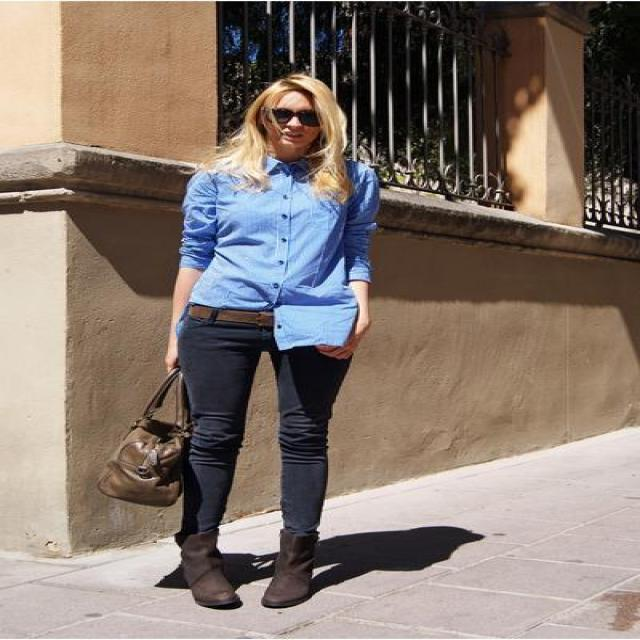bag: (106, 430, 203, 513)
pants: (173, 302, 350, 545)
shirt: (179, 141, 384, 349)
shoe: (154, 536, 336, 600)
sunglass: (272, 90, 325, 140)
